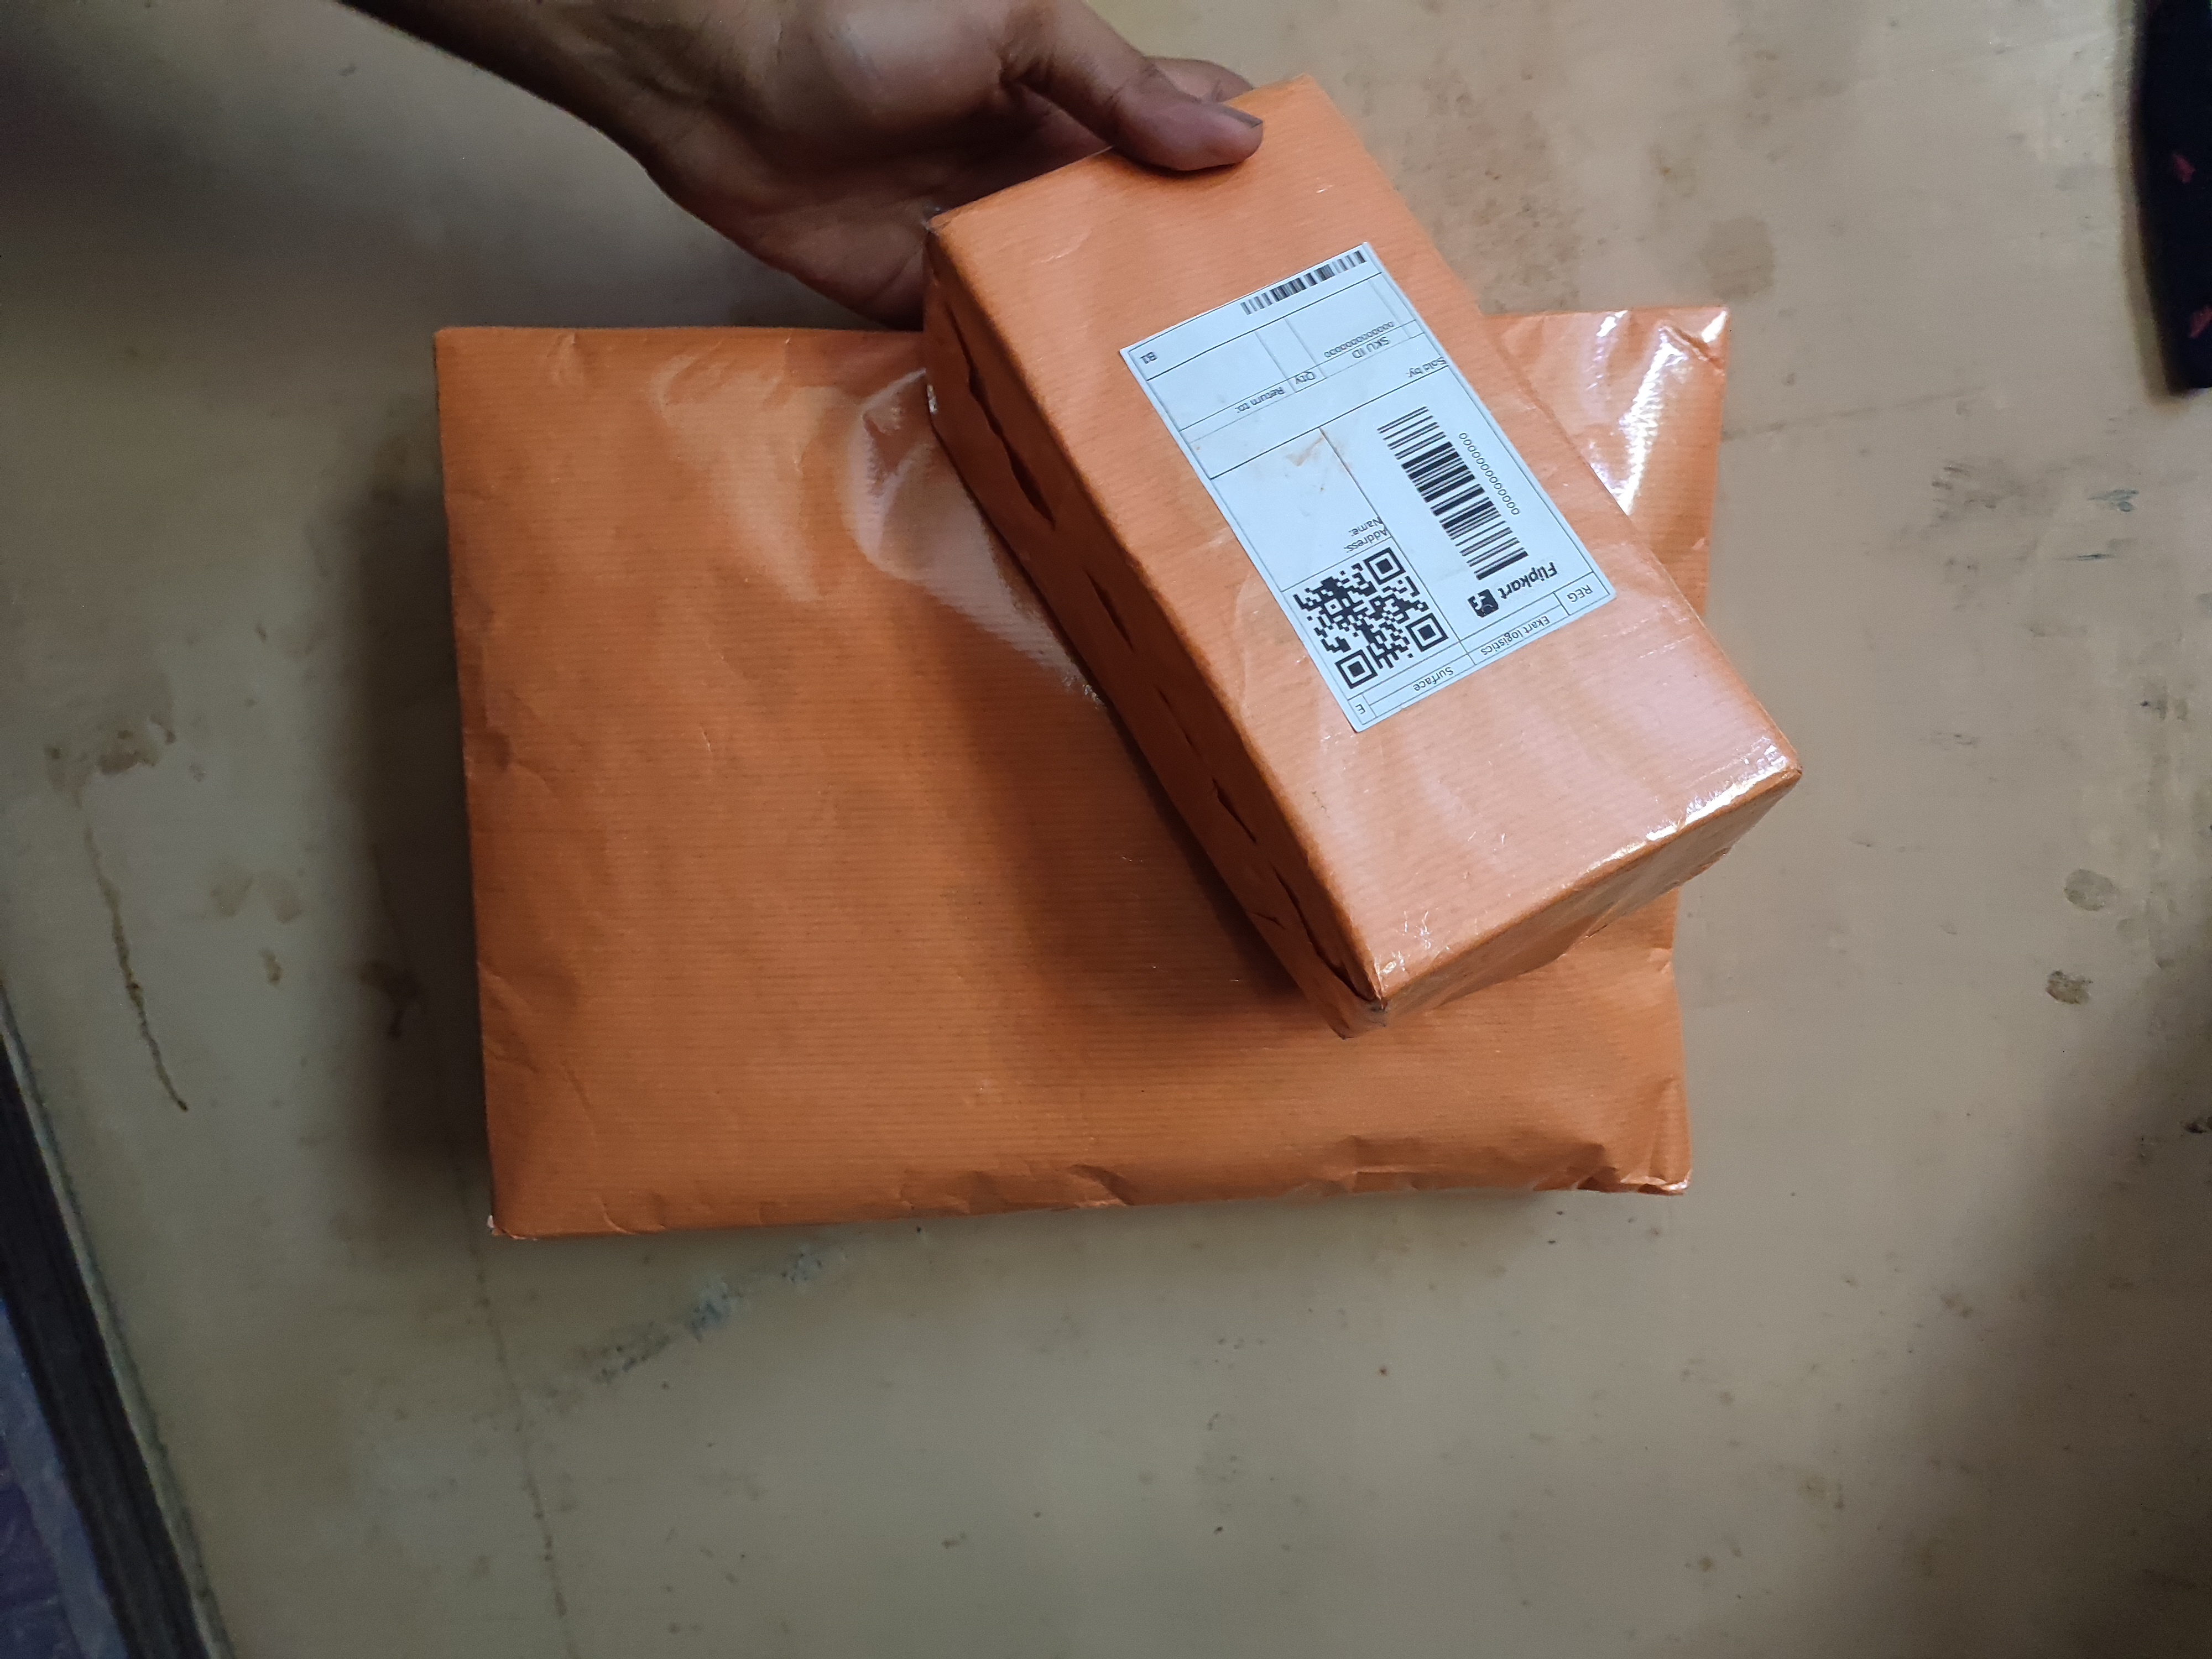Box: (432, 240, 1770, 1192), (890, 94, 1731, 1066)
